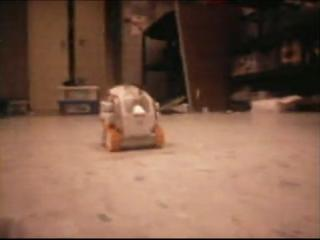cozmo: (97, 83, 165, 152)
